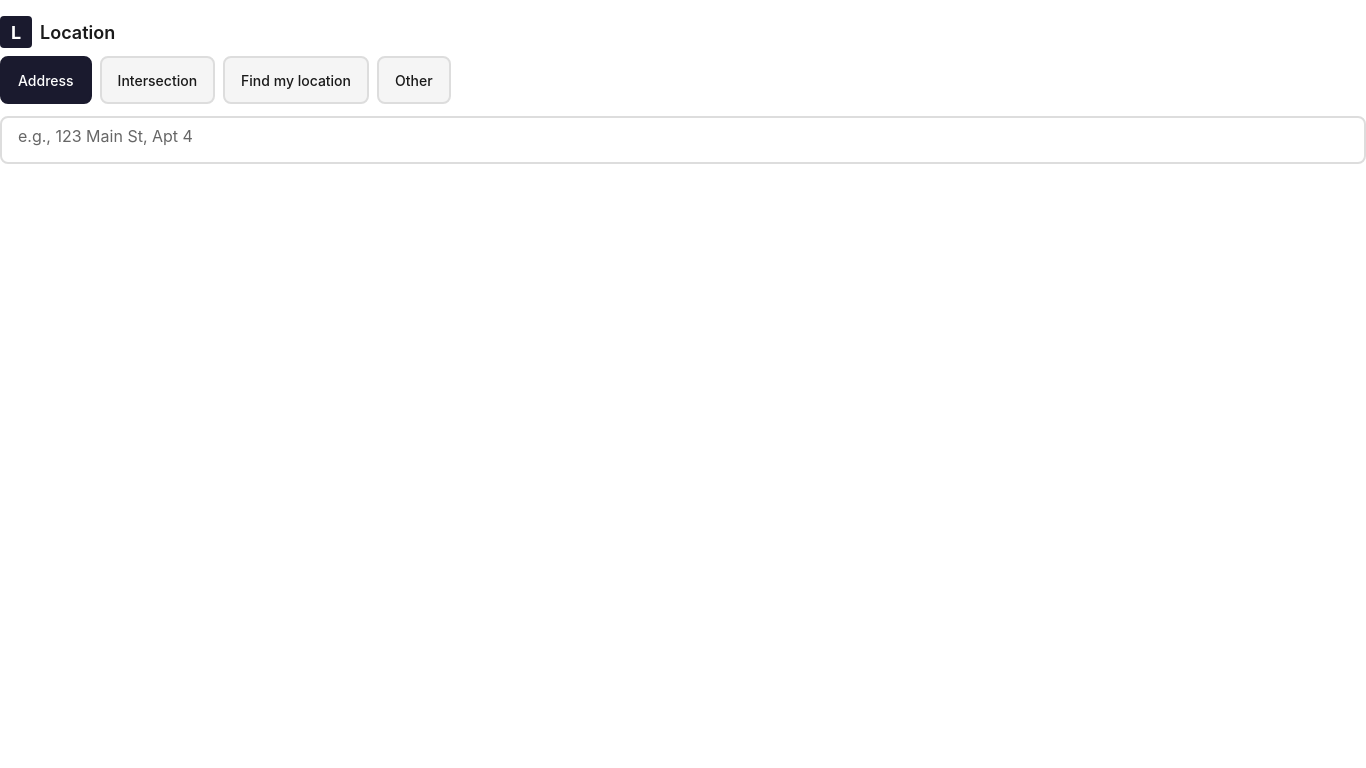
it: LocationSection › GPS Mode - Error Handling › shows permission denied error with help text
The width and height of the screenshot is (1366, 768).
What coordinates should you click on to do the following:
click the button "Find my location"
I would click on:
 (296, 80)
Its box is [223, 56, 369, 104].
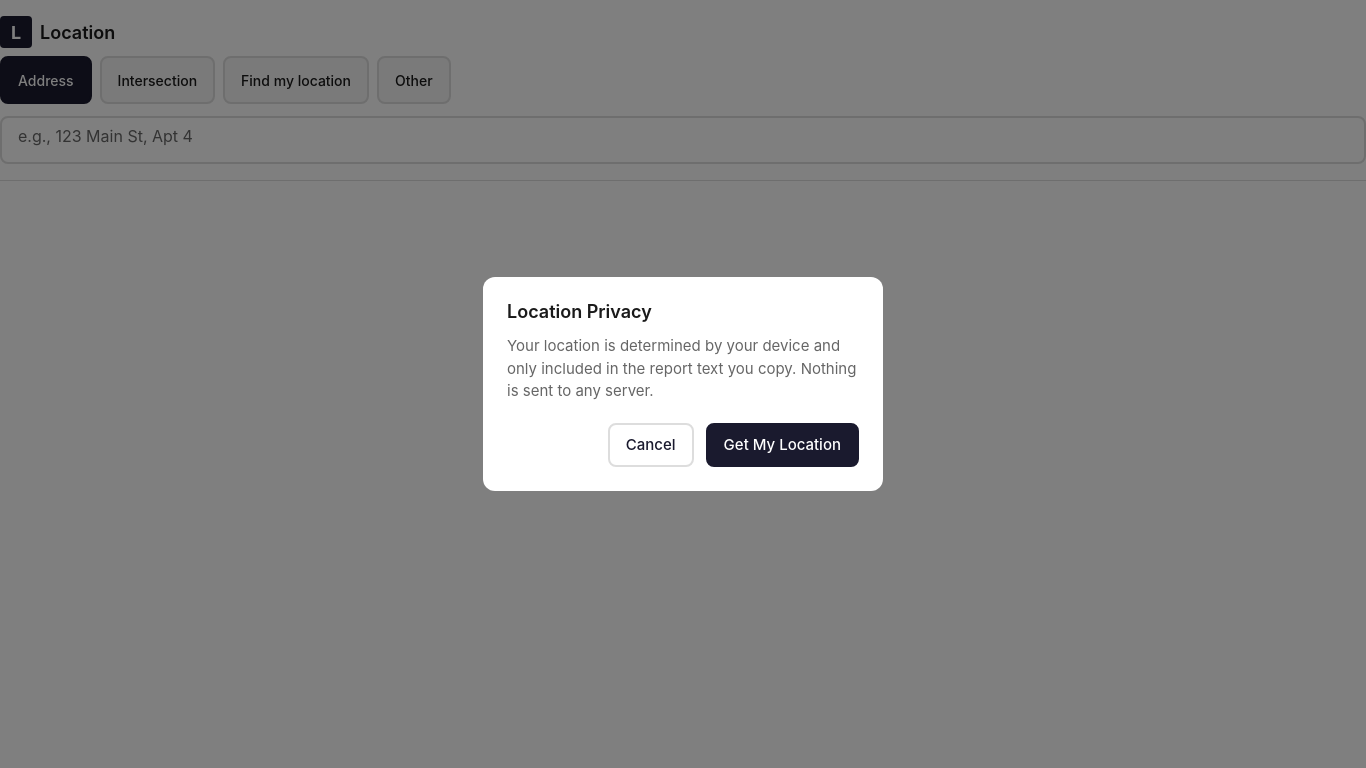
What coordinates should you click on to do the following:
click the button "Get My Location"
I would click on:
 (782, 444)
Its box is [706, 422, 859, 466].
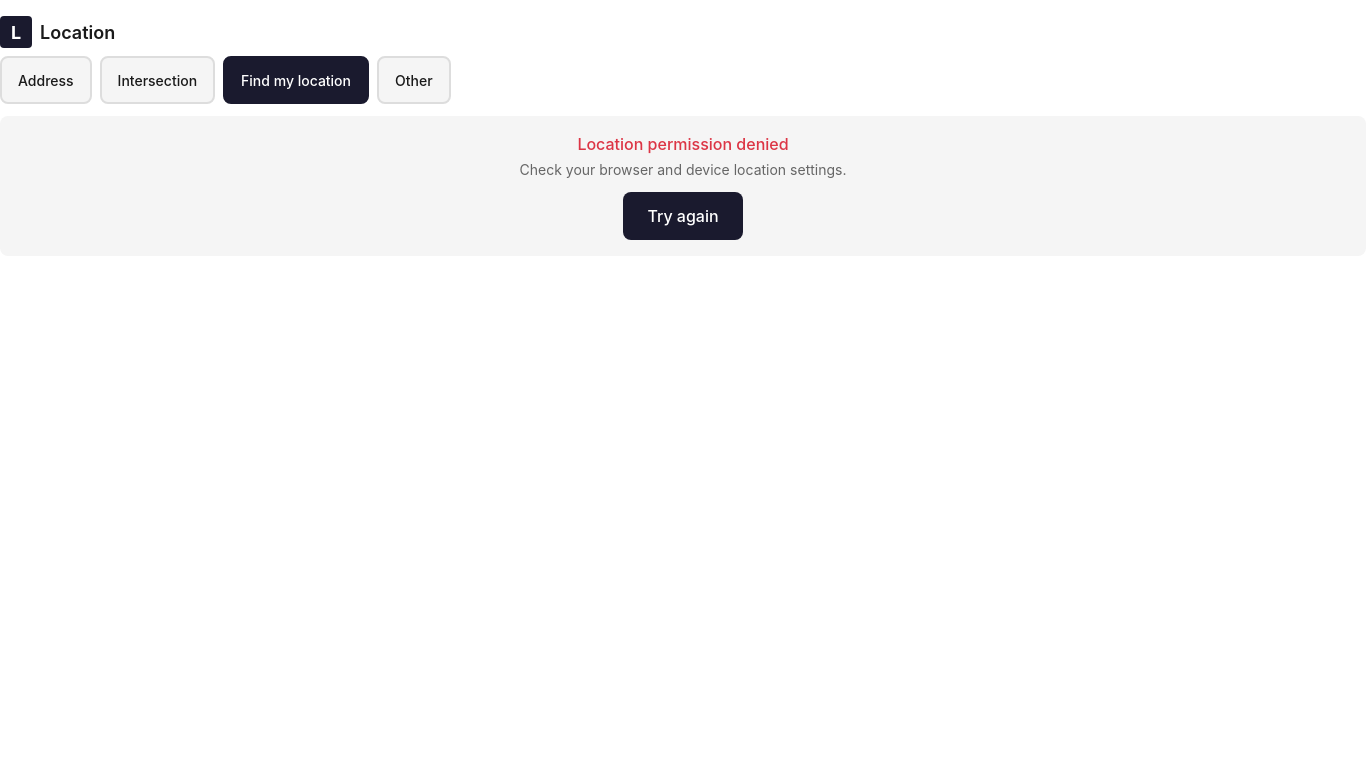
Expected: the text "Location permission denied" is shown, [577, 134, 789, 154]
Expected: the text "Check your browser and device location settings." is shown, [520, 161, 846, 178]
